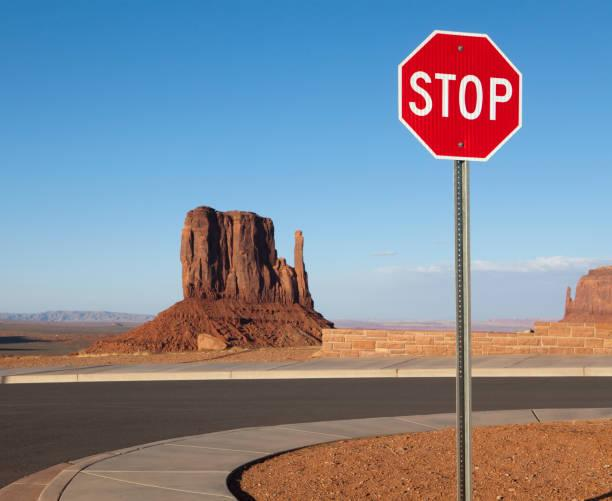Pole: (451, 161, 474, 501)
Sign: (398, 31, 523, 161)
